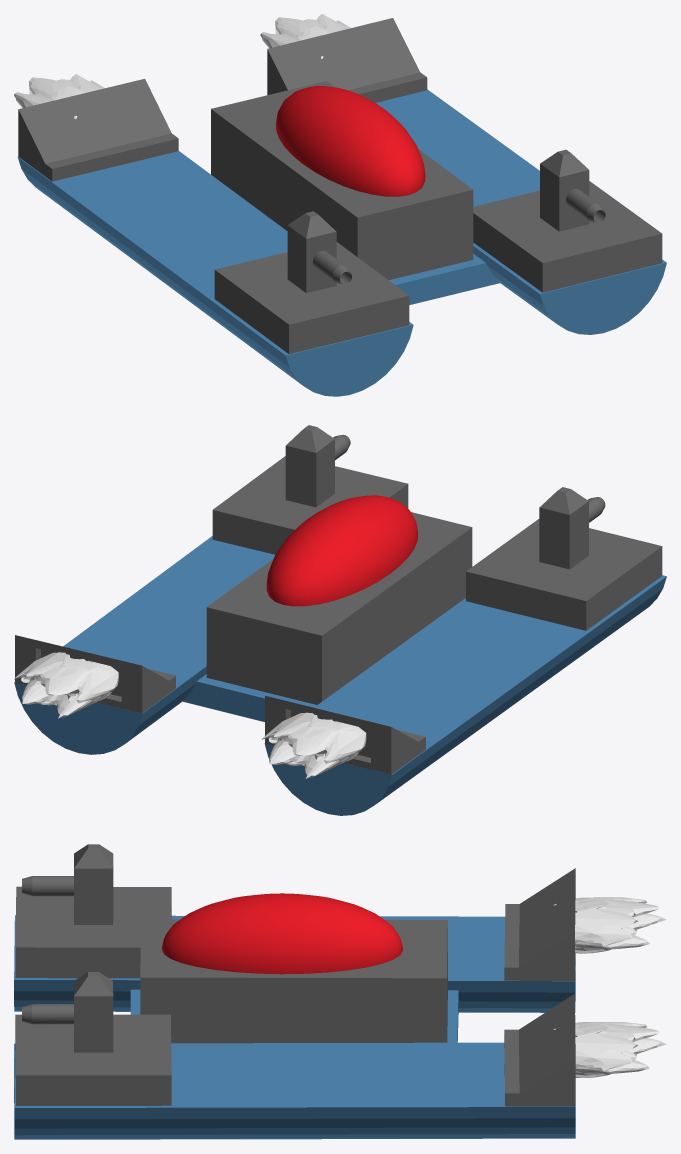
Rendered from enemy_spaceship_3.fbx.
3 renders of one model, top to bottom at view 1: azimuth 30°, elevation 25°; view 2: azimuth 150°, elevation 25°; view 3: azimuth 270°, elevation 25°, orthographic. The views are drawn at different scales.
Visible parts, largest first — view 1: Cylinder, Cube.003, Cube.001, Cube.002, Sphere, Cube, Jet Flame mesh Icosphere.002, Jet Flame mesh Icosphere.001, Cylinder.002; view 2: Cylinder, Cube.003, Cube.001, Sphere, Cube.002, Jet Flame mesh Icosphere.001, Jet Flame mesh Icosphere.002, Cube, Cylinder.002; view 3: Cylinder, Cube.003, Cube.001, Sphere, Cube.002, Jet Flame mesh Icosphere.001, Jet Flame mesh Icosphere.002, Cylinder.002, Cube.
Boxes of the visible parts, bbox=[...] form: Cylinder: bbox=[17, 89, 666, 396]; Cube.003: bbox=[214, 149, 662, 354]; Cube.001: bbox=[211, 81, 473, 280]; Cube.002: bbox=[18, 18, 427, 181]; Sphere: bbox=[276, 86, 425, 196]; Cube: bbox=[389, 254, 499, 304]; Jet Flame mesh Icosphere.002: bbox=[260, 14, 350, 58]; Jet Flame mesh Icosphere.001: bbox=[14, 74, 104, 118]; Cylinder.002: bbox=[312, 189, 605, 284]; Cylinder: bbox=[14, 536, 666, 815]; Cube.003: bbox=[212, 425, 662, 630]; Cube.001: bbox=[206, 512, 472, 704]; Sphere: bbox=[266, 495, 417, 606]; Cube.002: bbox=[15, 635, 425, 774]; Jet Flame mesh Icosphere.001: bbox=[262, 712, 366, 778]; Jet Flame mesh Icosphere.002: bbox=[14, 652, 118, 718]; Cube: bbox=[182, 674, 316, 721]; Cylinder.002: bbox=[333, 434, 605, 522]; Cylinder: bbox=[14, 915, 575, 1139]; Cube.003: bbox=[15, 844, 171, 1105]; Cube.001: bbox=[140, 919, 447, 1043]; Sphere: bbox=[161, 893, 402, 974]; Cube.002: bbox=[504, 868, 575, 1106]; Jet Flame mesh Icosphere.001: bbox=[553, 897, 666, 953]; Jet Flame mesh Icosphere.002: bbox=[553, 1022, 666, 1077]; Cylinder.002: bbox=[22, 876, 73, 1024]; Cube: bbox=[130, 989, 458, 1042].
Bounding box in the file's own units: 586 × 243 × 840.
